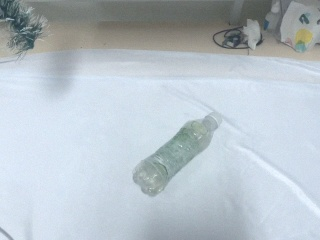bottle: (131, 114, 222, 198)
